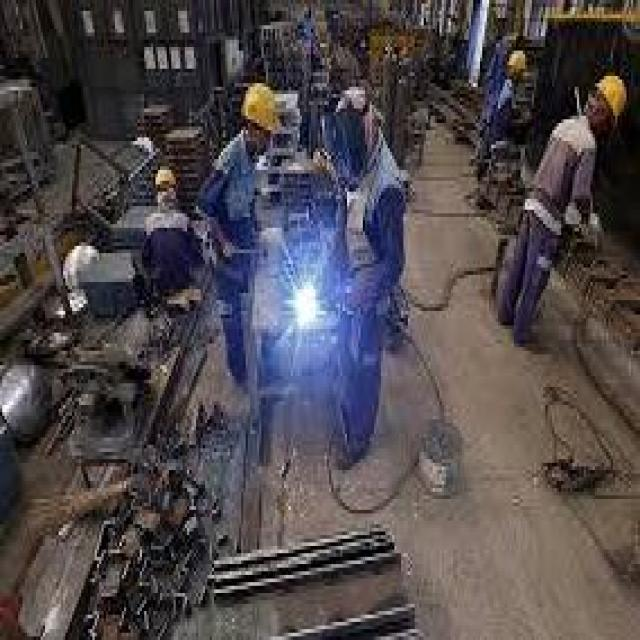Reflective-Jacket: (509, 112, 606, 268)
Safety-Helmet: (236, 76, 288, 141), (588, 65, 631, 127), (151, 159, 180, 199), (505, 44, 532, 84)
